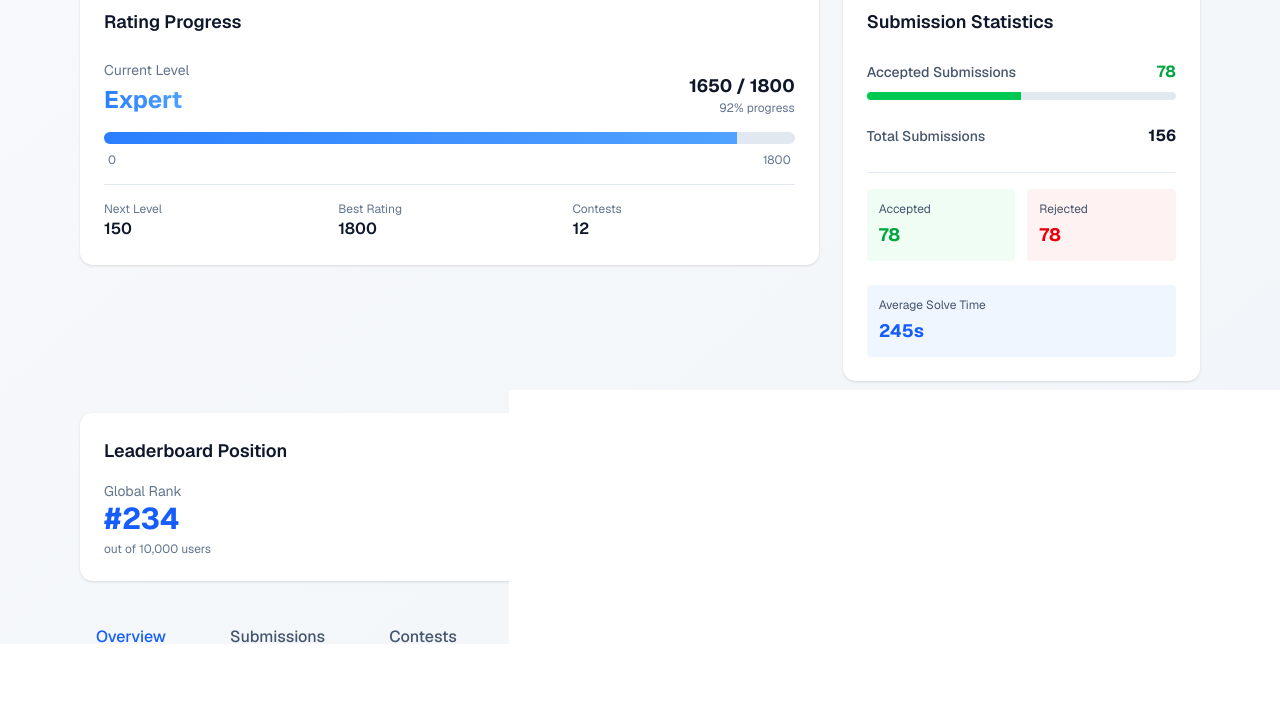
Scenario: UserProfile Component Suite › UserProfile - Contests Tab › should display contest details (rank, score, rating change)
This screenshot has width=1280, height=720.
(page scrolled)
Click the button with test id "contests-tab" at (423, 638), box [373,613,473,663]
(page scrolled)
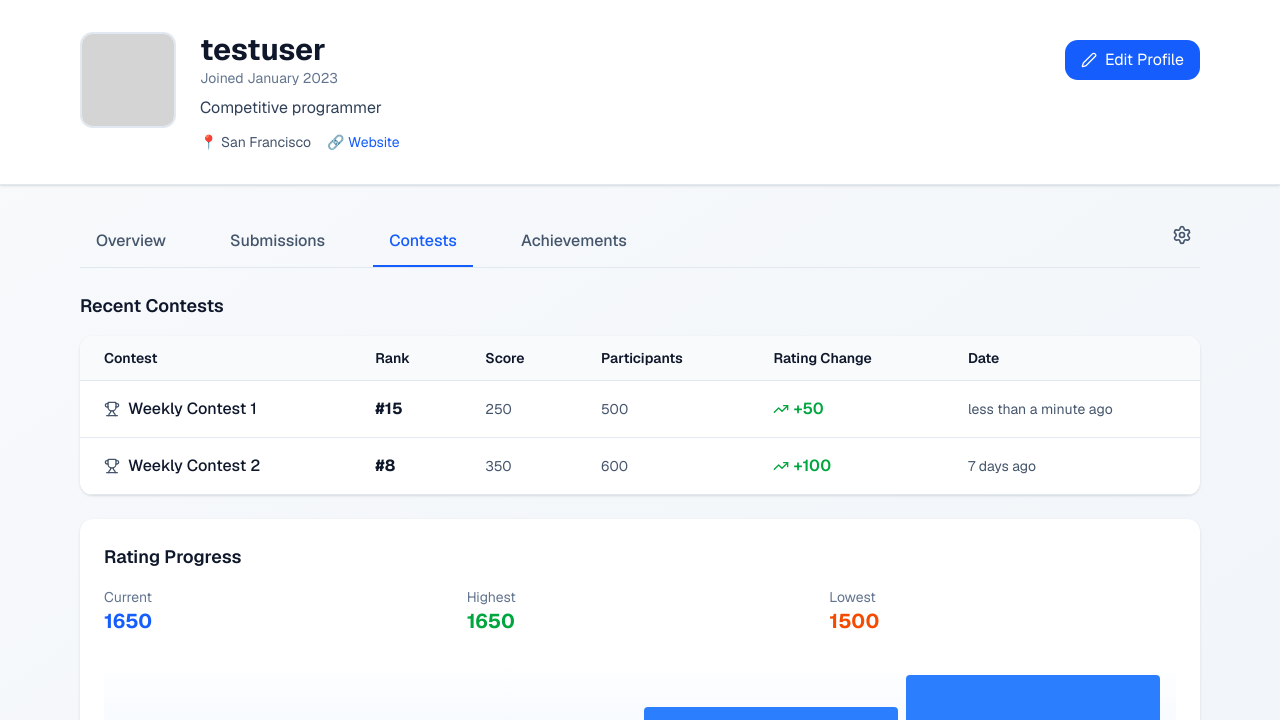
Now the row with test id "contest-row" shows "#15", box [80,380,1200,438]
Now the row with test id "contest-row" shows "+50", box [80,380,1200,438]
